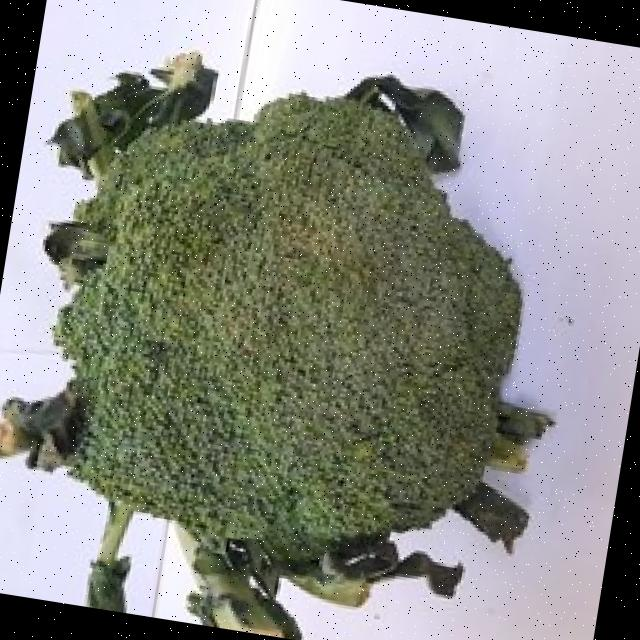Broccoli: (55, 93, 544, 550), (57, 94, 518, 546)
